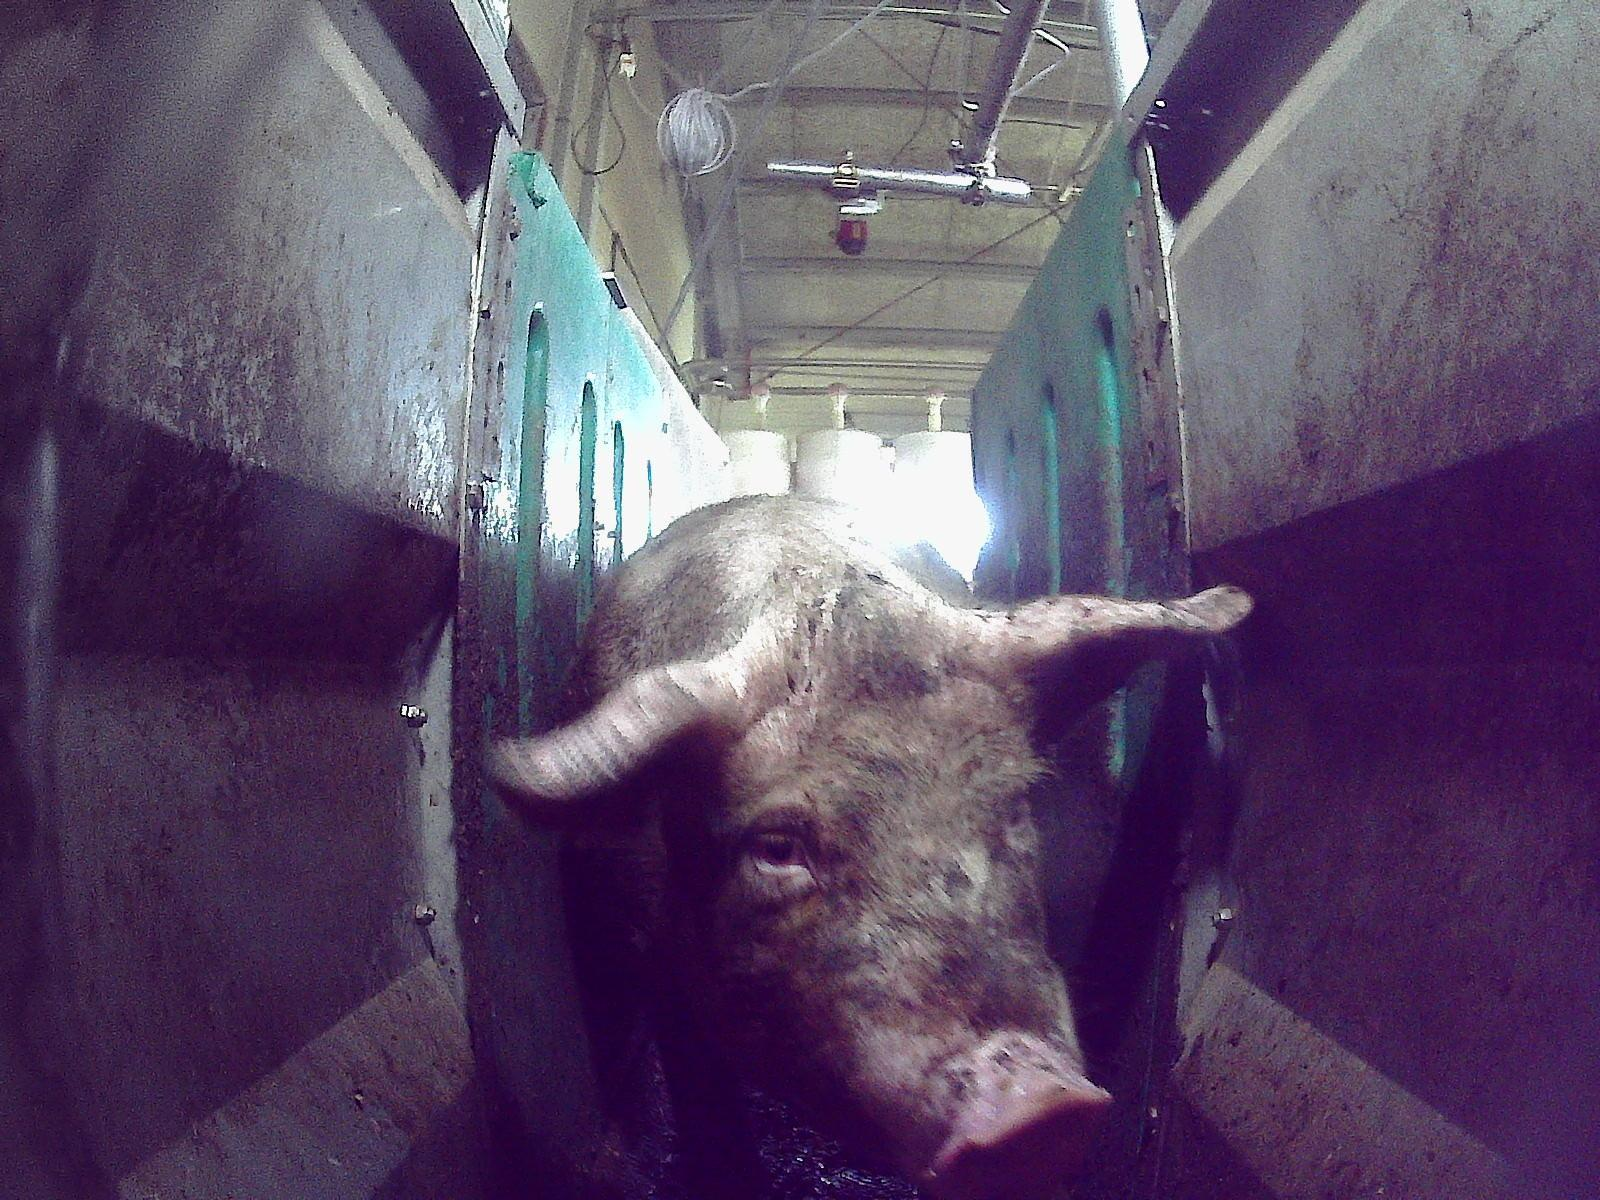Face: (705, 681, 1115, 1199)
